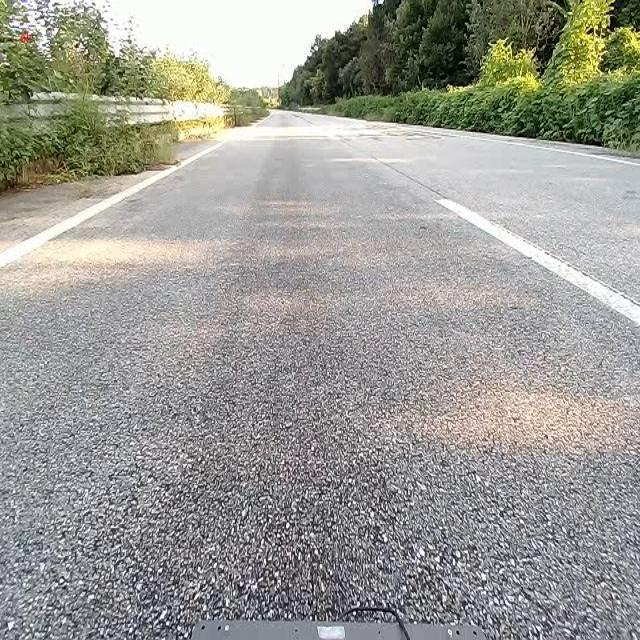Lane: (2, 139, 230, 273), (431, 191, 640, 329), (0, 141, 224, 269), (434, 195, 639, 327)
